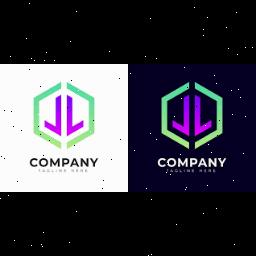l: (64, 94, 86, 138)
